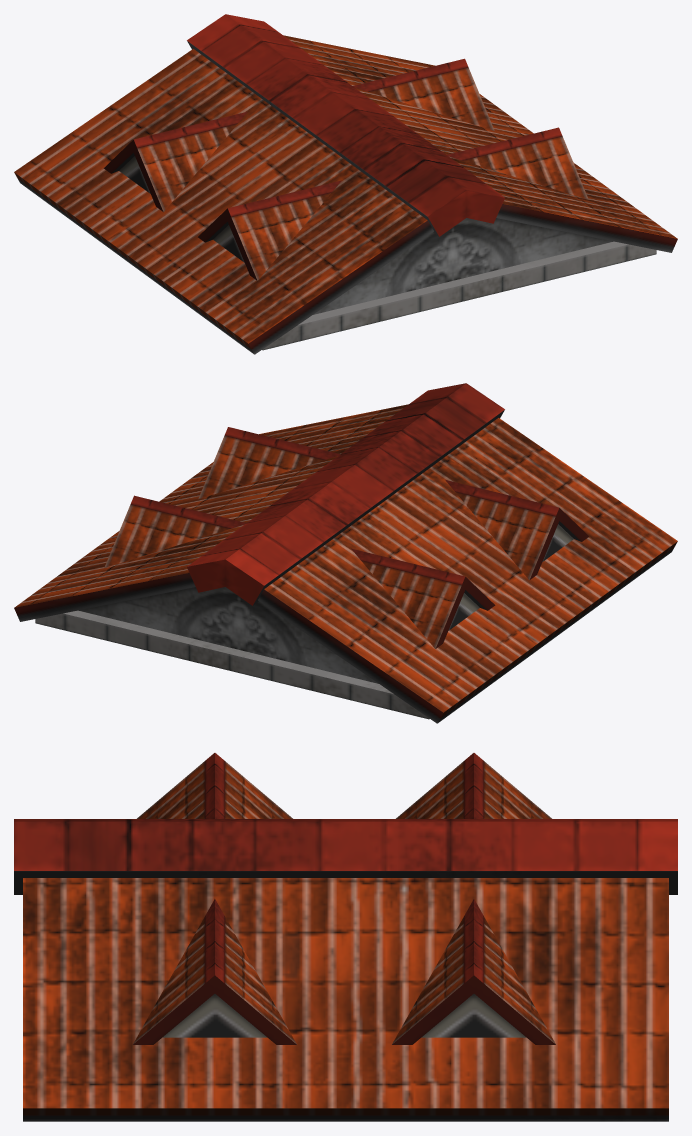
Rendered from Building03_roof1.FBX.
3 renders of one model, top to bottom at view 1: azimuth 30°, elevation 25°; view 2: azimuth 150°, elevation 25°; view 3: azimuth 270°, elevation 25°, orthographic. The views are drawn at different scales.
Parts seen in each view (by area): view 1: roof1; view 2: roof1; view 3: roof1.
Part boxes in pixels (left/top/right/bottom): roof1: left=14, top=14, right=677, bottom=354; roof1: left=14, top=383, right=677, bottom=723; roof1: left=14, top=753, right=677, bottom=1121.
Bounding box in the file's own units: 9.7 × 2.52 × 9.42.
